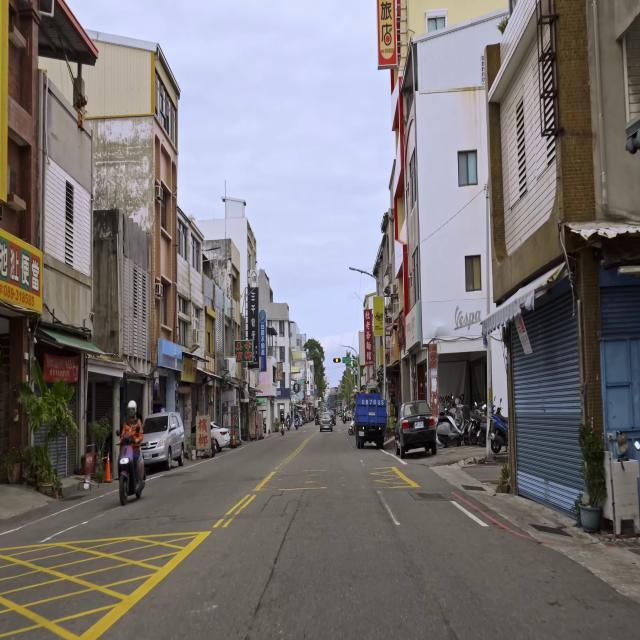yellow light: (334, 358, 341, 363), (304, 380, 309, 384)
